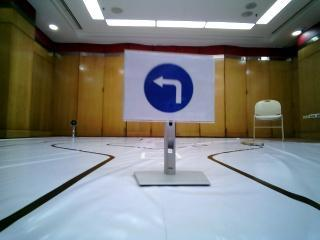left: (132, 53, 203, 114)
